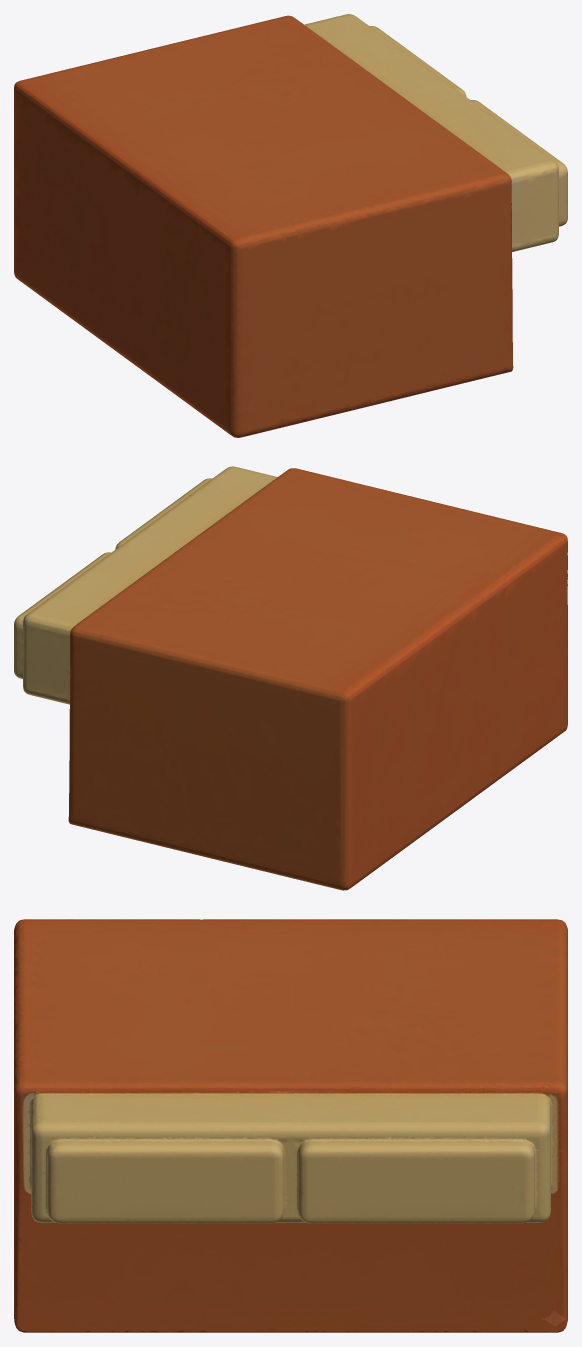
Rendered from Mod_Wall.glb.
The picture shows the model from 3 angles, top to bottom: view 1: azimuth 30°, elevation 25°; view 2: azimuth 150°, elevation 25°; view 3: azimuth 270°, elevation 25°; orthographic projection. The views are drawn at different scales.
Visible parts, largest first — view 1: tripo_node_20b2bcd2-c3da-408c-9e85-f73726cda805; view 2: tripo_node_20b2bcd2-c3da-408c-9e85-f73726cda805; view 3: tripo_node_20b2bcd2-c3da-408c-9e85-f73726cda805.
Part boxes in pixels (x1,y1,x2,y2): tripo_node_20b2bcd2-c3da-408c-9e85-f73726cda805: [14, 14, 567, 437]; tripo_node_20b2bcd2-c3da-408c-9e85-f73726cda805: [14, 466, 567, 890]; tripo_node_20b2bcd2-c3da-408c-9e85-f73726cda805: [14, 919, 567, 1332].
Bounding box in the file's own units: 0.9053 × 0.4921 × 1.
1 material, 1 textured.
